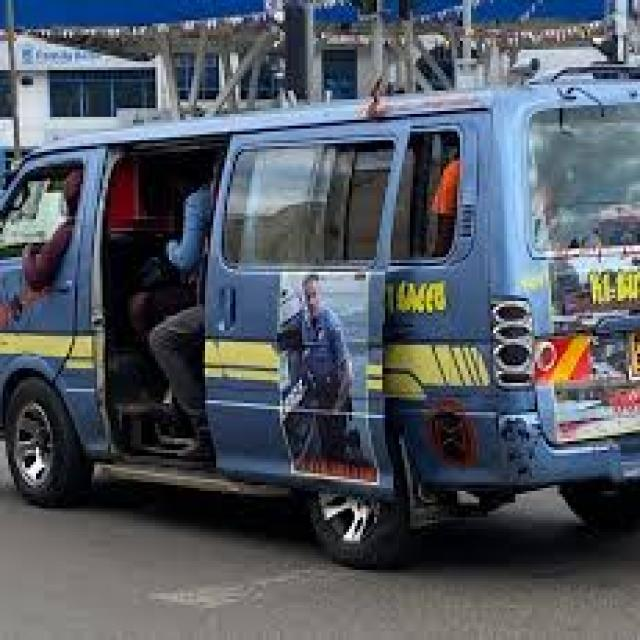matatu: (0, 31, 640, 619)
